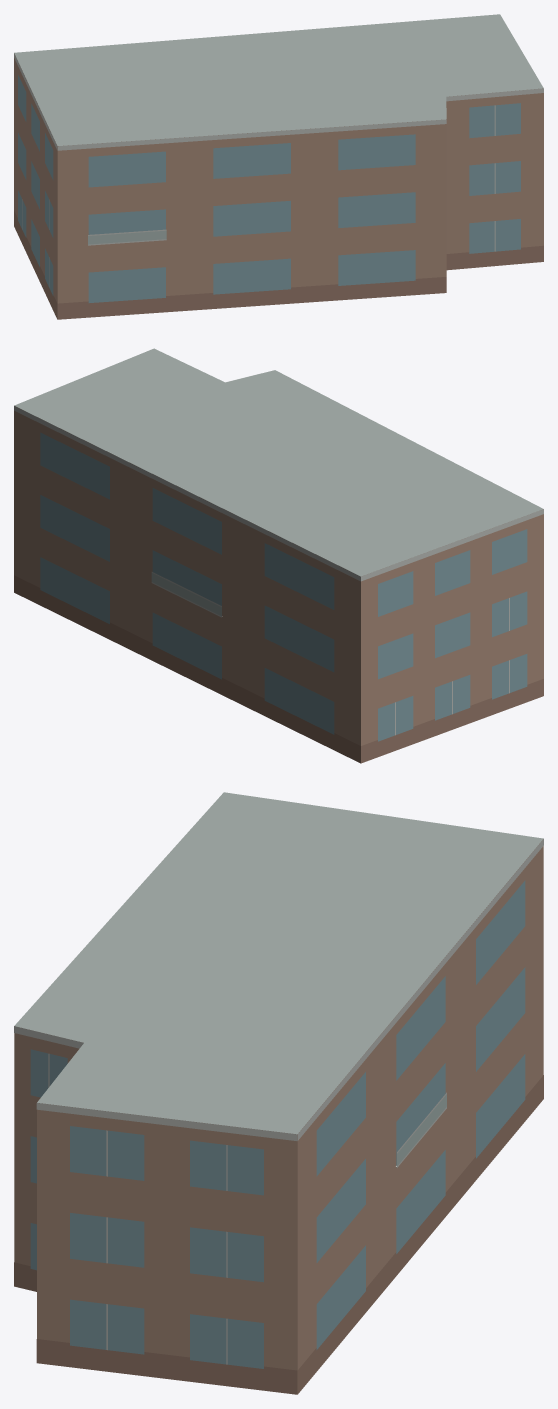
The model's file is survey-upis-32470597.glb.
3 renders of one model, top to bottom at view 1: azimuth 30°, elevation 25°; view 2: azimuth 150°, elevation 25°; view 3: azimuth 270°, elevation 25°, orthographic. The views are drawn at different scales.
Parts seen in each view (by area): view 1: survey-upis-32470597.tmp; view 2: survey-upis-32470597.tmp; view 3: survey-upis-32470597.tmp.
Boxes of the visible parts, box(x1,y1,x2,y2) form: survey-upis-32470597.tmp: box(14, 14, 543, 319); survey-upis-32470597.tmp: box(14, 348, 543, 763); survey-upis-32470597.tmp: box(14, 792, 543, 1394).
Size of the model in its own units: 25.79 by 9.15 by 16.88.
